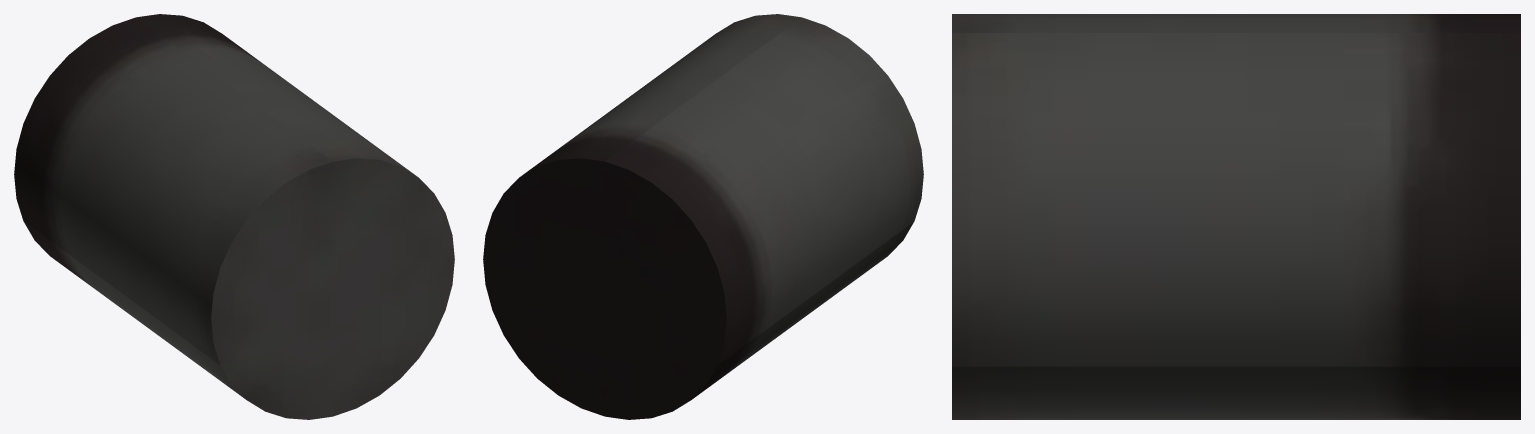
File: body__stem_pp.glb
3 renders of one model, left to right at view 1: azimuth 30°, elevation 25°; view 2: azimuth 150°, elevation 25°; view 3: azimuth 270°, elevation 25°, orthographic. The views are drawn at different scales.
Parts seen in each view (by area): view 1: geometry_0; view 2: geometry_0; view 3: geometry_0.
Part boxes in pixels (box(x1,y1,x2,y2)): geometry_0: box(14, 14, 454, 419); geometry_0: box(483, 14, 923, 419); geometry_0: box(952, 14, 1520, 419).
Size of the model in its own units: 0.01 by 0.01 by 0.014.
1 material, 1 textured.
